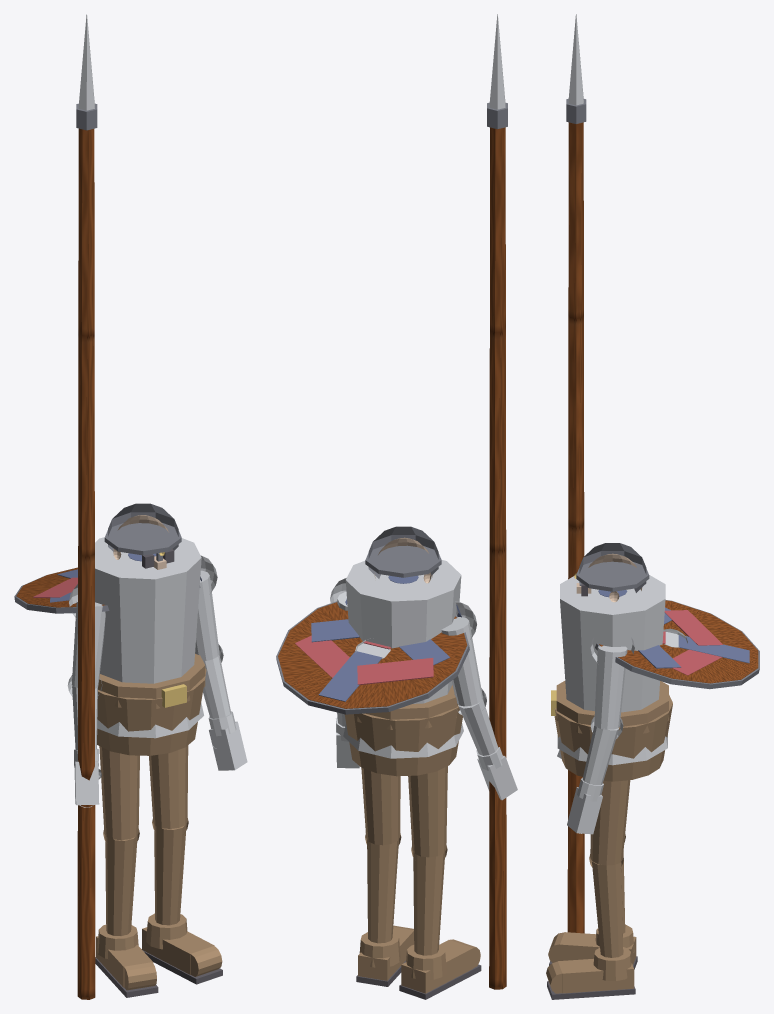
File: legendary-warriors-kit-viking-spearman-bb90aeef__39195.glb
3 views of the same model, side by side, from view 1: azimuth 30°, elevation 25°; view 2: azimuth 150°, elevation 25°; view 3: azimuth 270°, elevation 25° (orthographic). The views are drawn at different scales.
Parts seen in each view (by area): view 1: viking-spearman, brace-arm-weapon, torso-trim, arm-L-low, head-gear, brace-arm-low, arm-L, torso-belt, torso-shield (×2), brace-arm; view 2: viking-spearman, brace-arm-weapon, torso-shield (×4), torso-trim, brace-arm-low, head-gear, brace-arm, torso-belt, arm-L-low; view 3: viking-spearman, torso-trim, brace-arm-weapon, torso-shield (×4), arm-L-low, head-gear, arm-L, torso-belt, brace-arm-low.
Boxes of the visible parts, bbox=[...] form: viking-spearman: bbox=[95, 668, 222, 997]; brace-arm-weapon: bbox=[77, 128, 95, 999]; torso-trim: bbox=[95, 537, 203, 738]; arm-L-low: bbox=[203, 644, 247, 770]; head-gear: bbox=[104, 503, 181, 561]; brace-arm-low: bbox=[67, 14, 102, 807]; arm-L: bbox=[195, 555, 219, 660]; torso-belt: bbox=[98, 653, 205, 708]; torso-shield (×2): bbox=[14, 567, 200, 613]; brace-arm: bbox=[69, 584, 105, 688]; viking-spearman: bbox=[344, 705, 481, 999]; brace-arm-weapon: bbox=[489, 127, 506, 989]; torso-shield (×4): bbox=[276, 601, 469, 714]; torso-trim: bbox=[343, 560, 463, 758]; brace-arm-low: bbox=[454, 14, 517, 800]; head-gear: bbox=[365, 526, 441, 578]; brace-arm: bbox=[441, 601, 482, 706]; torso-belt: bbox=[357, 685, 458, 729]; arm-L-low: bbox=[336, 712, 359, 768]; viking-spearman: bbox=[546, 695, 672, 999]; torso-trim: bbox=[557, 575, 687, 765]; brace-arm-weapon: bbox=[567, 122, 584, 933]; torso-shield (×4): bbox=[595, 600, 759, 689]; arm-L-low: bbox=[567, 716, 623, 834]; head-gear: bbox=[576, 543, 649, 592]; arm-L: bbox=[590, 637, 634, 729]; torso-belt: bbox=[556, 681, 668, 733]; brace-arm-low: bbox=[557, 14, 583, 758].
Bounding box in the file's own units: 0.718 × 3.82 × 0.7966.
9 materials, 1 textured.
